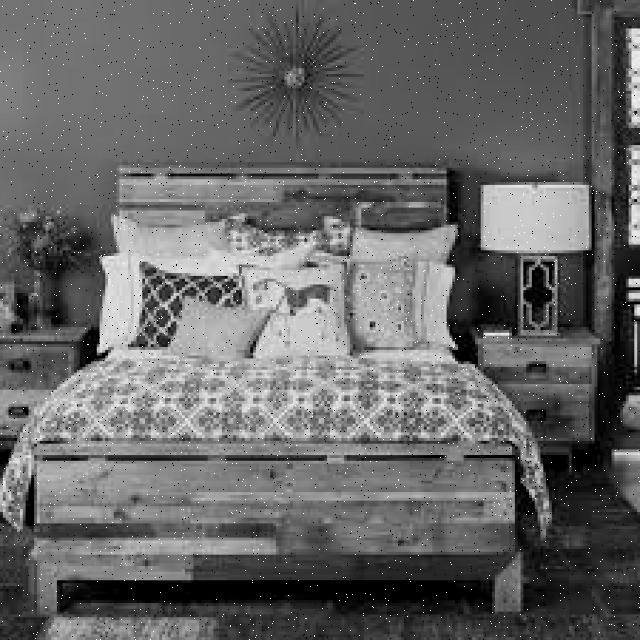bed: (31, 218, 502, 442)
